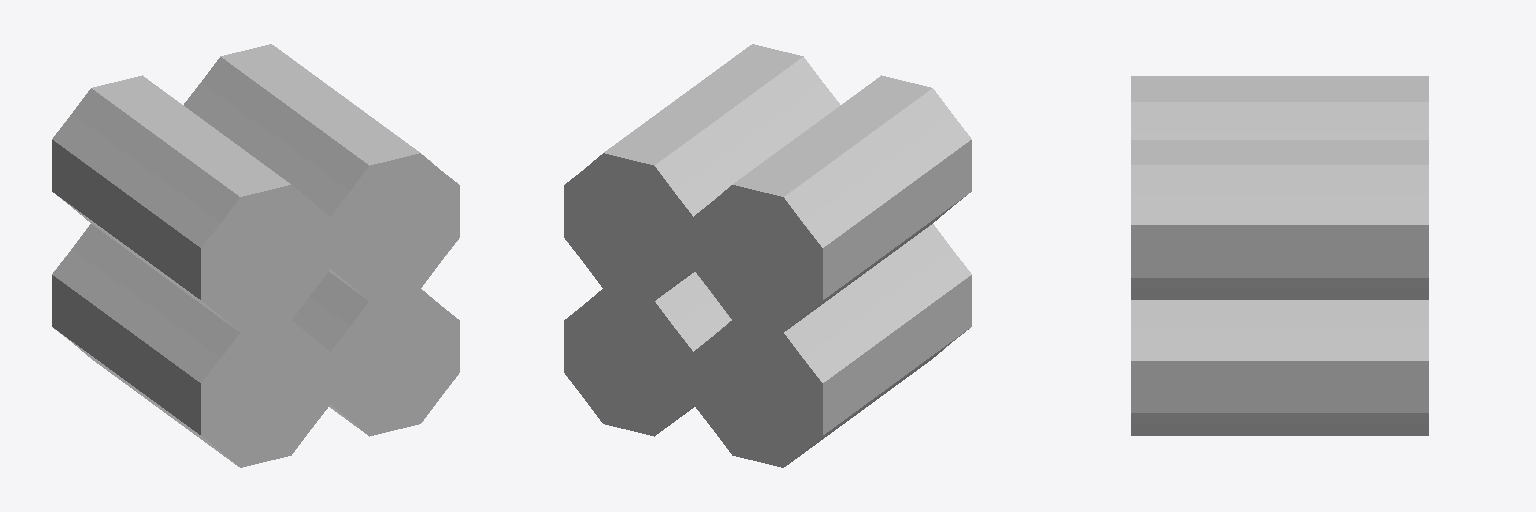
The model's file is log_pile_8.obj.
The picture shows the model from 3 angles: view 1: azimuth 30°, elevation 25°; view 2: azimuth 150°, elevation 25°; view 3: azimuth 270°, elevation 25°; orthographic projection.
Parts seen in each view (by area): view 1: log.007, log.003, log.005, log.001, log.006, log.004, log.002; view 2: log.006, log.004, log.002, log, log.007, log.003, log.005; view 3: log.002, log.005, log, log.001, log.006, log.007.
Boxes of the visible parts, <box> form: log.007: <box>127,130,330,331</box>; log.003: <box>127,278,330,467</box>; log.005: <box>258,99,459,300</box>; log.001: <box>292,272,459,436</box>; log.006: <box>52,75,215,276</box>; log.004: <box>52,224,164,412</box>; log.002: <box>184,44,345,159</box>; log.006: <box>693,130,896,331</box>; log.004: <box>693,278,896,467</box>; log.002: <box>564,99,765,300</box>; log: <box>564,272,731,436</box>; log.007: <box>808,75,971,276</box>; log.003: <box>859,224,971,412</box>; log.005: <box>678,44,839,159</box>; log.002: <box>1280,140,1428,299</box>; log.005: <box>1131,140,1279,299</box>; log: <box>1280,300,1428,435</box>; log.001: <box>1131,300,1279,435</box>; log.006: <box>1280,76,1428,139</box>; log.007: <box>1131,76,1279,139</box>.
Size of the model in its own units: 1 by 1 by 1.